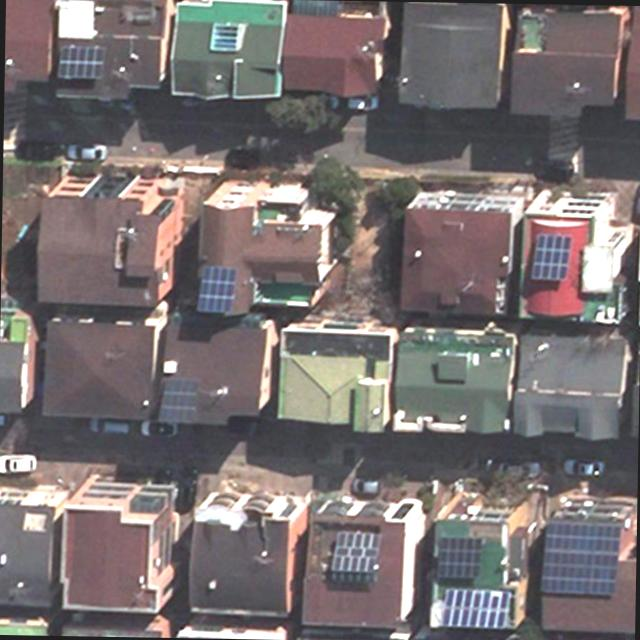solar: (540, 517, 620, 599), (440, 588, 512, 630), (192, 264, 240, 316), (526, 232, 574, 282), (434, 534, 484, 580), (154, 377, 200, 426), (328, 530, 378, 574), (55, 40, 104, 80), (327, 571, 378, 584)
